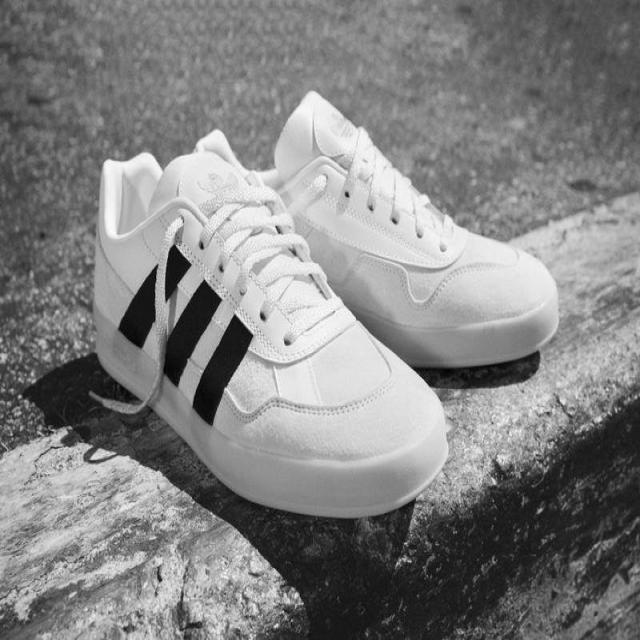Adidas: (197, 160, 244, 209), (328, 99, 358, 147)
